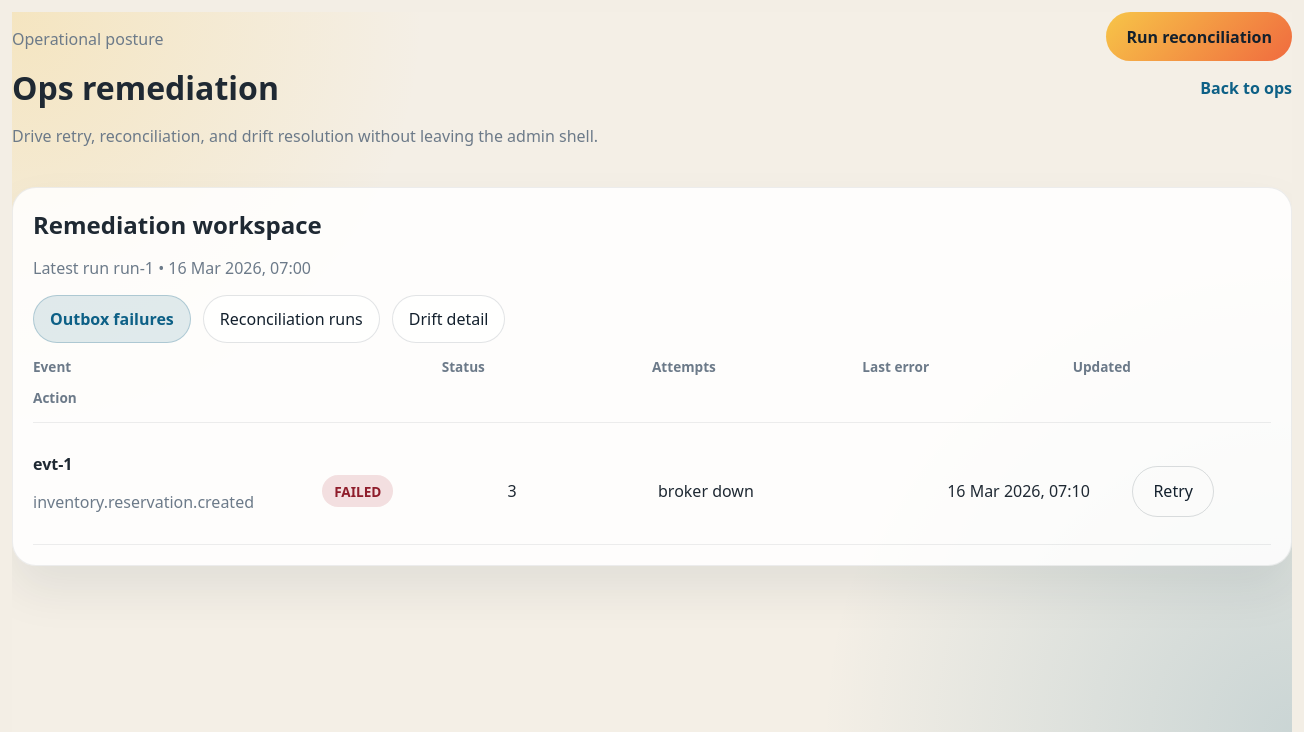
Test: OpsRemediationPage › retries a failed outbox event from the default tab
The image size is (1304, 732).
Expected: the text "evt-1" is shown, [33, 453, 72, 475]
Click the button "Retry".
click(1173, 491)  # box [1132, 466, 1214, 517]
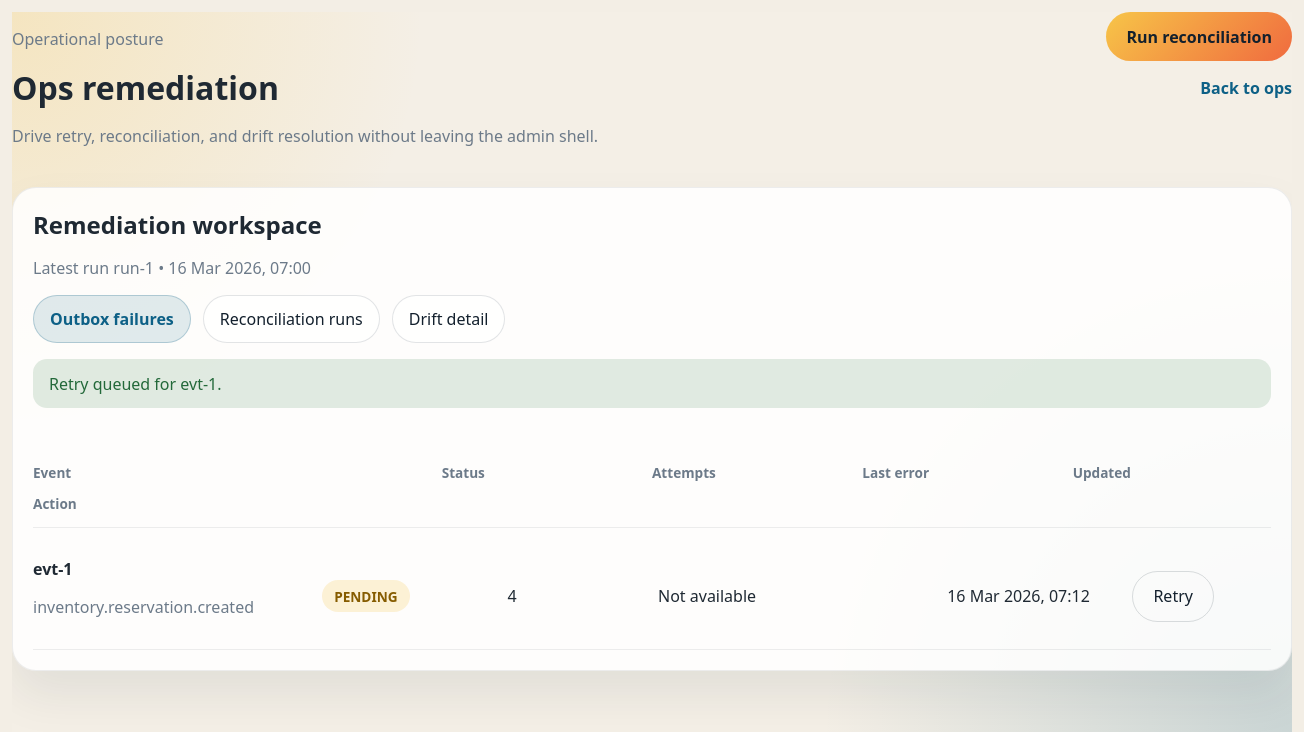
Expected: the text "Retry queued for evt-1." is shown, [33, 359, 1271, 408]
